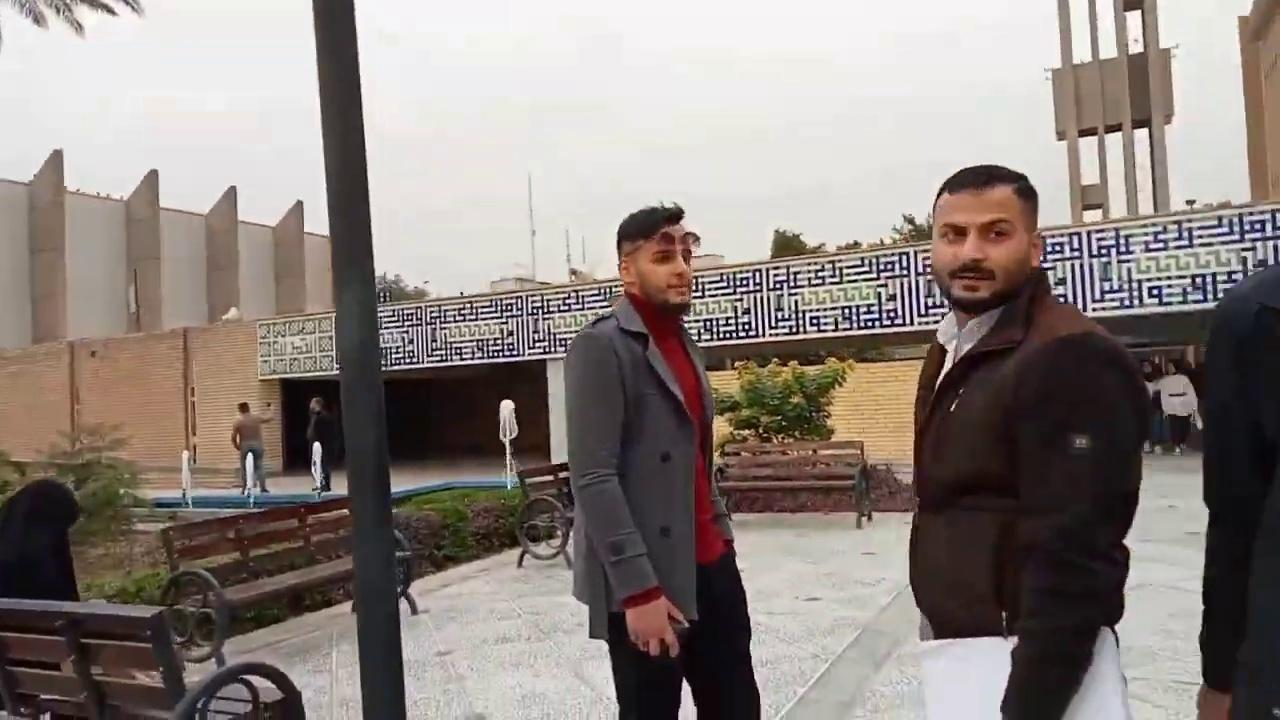fountain: (496, 396, 529, 505), (496, 397, 519, 489)
person: (908, 163, 1152, 719), (563, 201, 762, 719), (1195, 261, 1279, 719), (0, 476, 82, 719), (1155, 359, 1198, 455), (230, 401, 273, 496), (305, 396, 337, 492)
tree: (1, 0, 417, 717), (308, 0, 408, 718), (0, 416, 150, 590), (713, 353, 855, 445), (0, 0, 144, 50), (768, 227, 826, 259), (374, 270, 430, 303), (891, 211, 932, 243)
